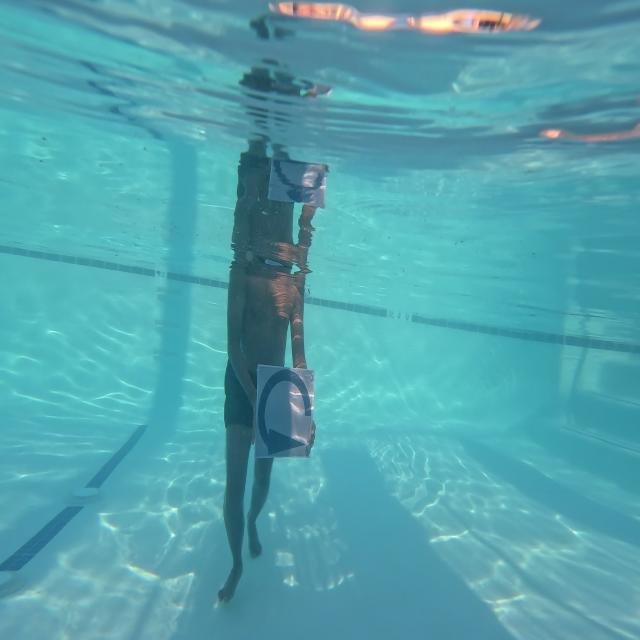blue_side: (257, 366, 313, 461)
